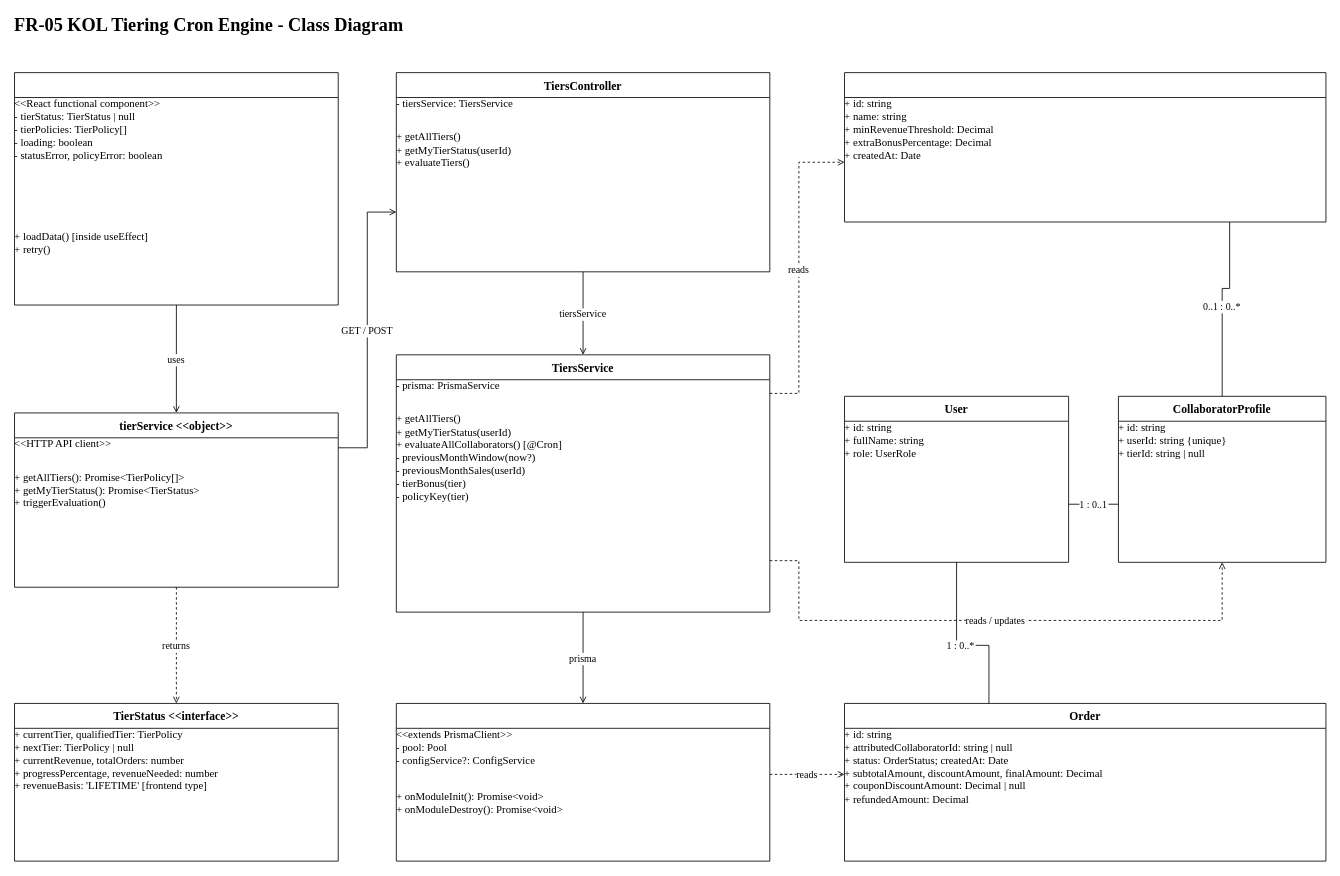
This 1340x876 diagram has some shape labels left out. The shapes that lost their labels are listed below. From the top down, each one's box as (x1, y1, x2, y2) in pixels, then its label:
(844, 72, 1326, 222): CollaboratorTier
(14, 72, 338, 305): KolTierStatusPage
(395, 703, 770, 861): PrismaService
